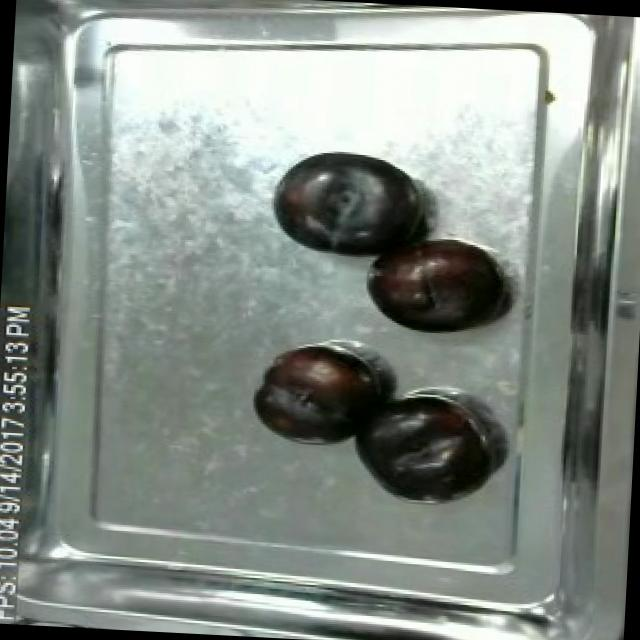Fruit: (266, 146, 433, 268), (345, 392, 495, 511), (360, 228, 510, 339), (246, 341, 388, 452)
